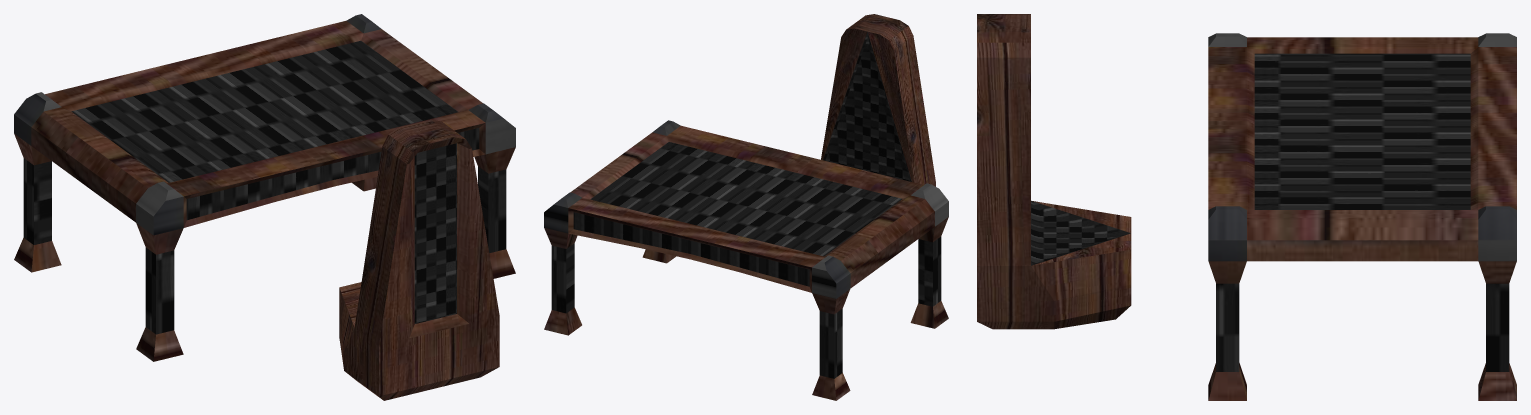
Rendered from ChairnTable.fbx.
The picture shows the model from 3 angles, left to right: view 1: azimuth 30°, elevation 25°; view 2: azimuth 150°, elevation 25°; view 3: azimuth 270°, elevation 25°; orthographic projection. The views are drawn at different scales.
Visible parts, largest first — view 1: Cube.003, Cube.004; view 2: Cube.003, Cube.004; view 3: Cube.003, Cube.004.
Part boxes in pixels (x1=…): Cube.003: x1=14, y1=14, x2=515, y2=361; Cube.004: x1=339, y1=119, x2=499, y2=400; Cube.003: x1=544, y1=120, x2=948, y2=400; Cube.004: x1=821, y1=14, x2=935, y2=186; Cube.003: x1=1208, y1=33, x2=1516, y2=400; Cube.004: x1=977, y1=14, x2=1131, y2=329.
Bounding box in the file's own units: 600 × 400 × 700.
